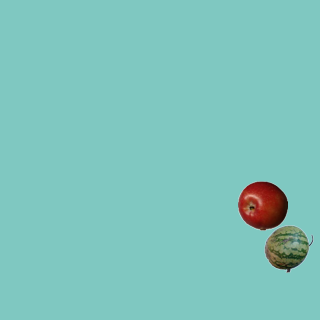Apple Braeburn: (237, 180, 287, 230)
Watermelon: (263, 223, 313, 273)
